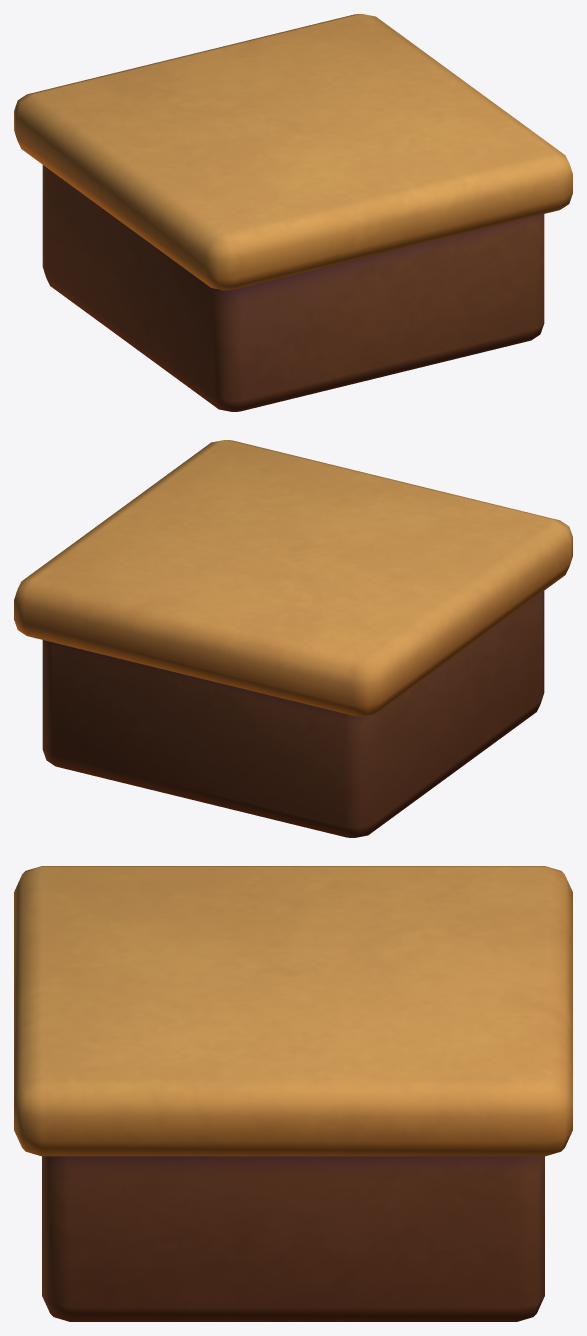
Rendered from table.obj.
3 renders of one model, top to bottom at view 1: azimuth 30°, elevation 25°; view 2: azimuth 150°, elevation 25°; view 3: azimuth 270°, elevation 25°, orthographic. The views are drawn at different scales.
Visible parts, largest first — view 1: ClearCounter.Base.005; view 2: ClearCounter.Base.005; view 3: ClearCounter.Base.005.
Boxes of the visible parts, x1,y1,x2,y2 form: ClearCounter.Base.005: (14, 14, 572, 411); ClearCounter.Base.005: (14, 440, 572, 837); ClearCounter.Base.005: (14, 866, 572, 1321).
Bounding box in the file's own units: 1.33 × 0.6833 × 1.33.
1 material, 1 textured.
